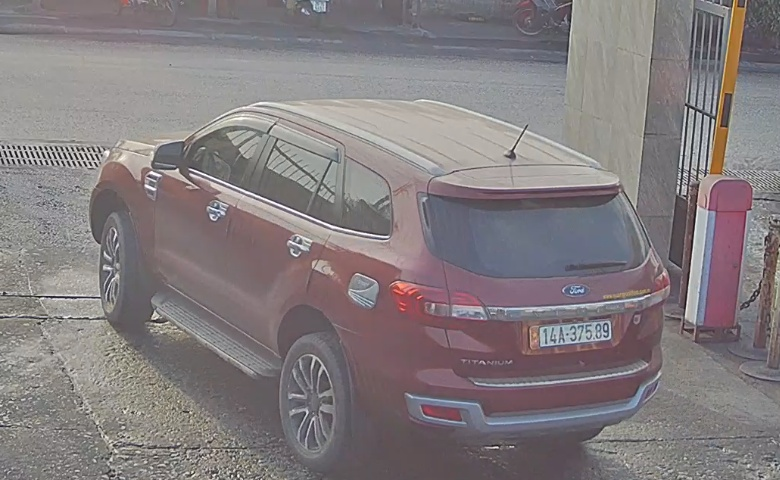vehicle plate: (522, 319, 620, 349)
